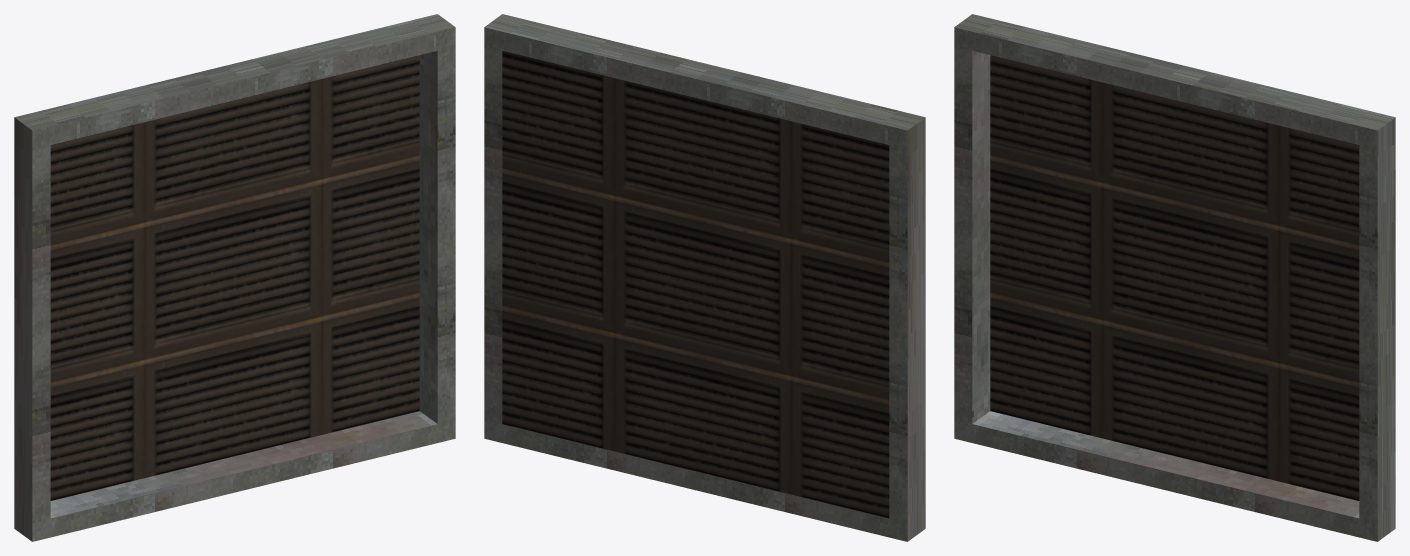
The model's file is VendorGate.glb.
3 views of the same model, side by side, from view 1: azimuth 30°, elevation 25°; view 2: azimuth 150°, elevation 25°; view 3: azimuth 330°, elevation 25° (orthographic).
Parts seen in each view (by area): view 1: Cube.106; view 2: Cube.106; view 3: Cube.106.
Boxes of the visible parts, left/top/right/bottom form: Cube.106: left=14, top=14, right=455, bottom=541; Cube.106: left=484, top=14, right=925, bottom=541; Cube.106: left=954, top=14, right=1395, bottom=541.
Size of the model in its own units: 0.7692 by 0.7142 by 0.0572.
Materials: 2 (2 with a texture image).
